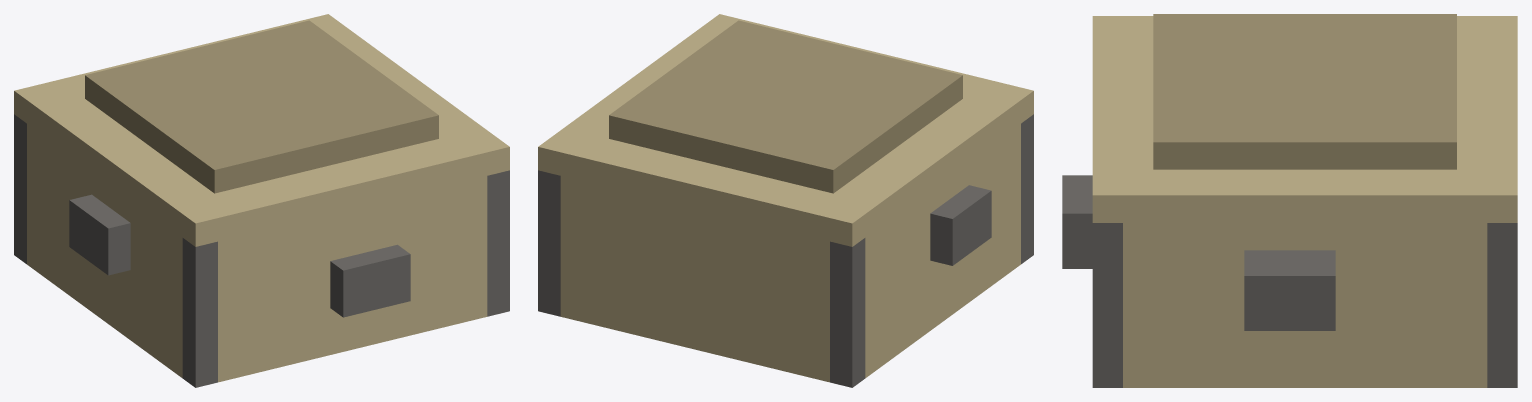
Rendered from cesto_ropa_banista_01.glb.
3 views of the same model, side by side, from view 1: azimuth 30°, elevation 25°; view 2: azimuth 150°, elevation 25°; view 3: azimuth 270°, elevation 25° (orthographic). The views are drawn at different scales.
Parts seen in each view (by area): view 1: cesto_ropa_banista; view 2: cesto_ropa_banista; view 3: cesto_ropa_banista.
Part boxes in pixels (box(x1,y1,x2,y2)): cesto_ropa_banista: box(14, 14, 509, 387); cesto_ropa_banista: box(538, 14, 1033, 387); cesto_ropa_banista: box(1062, 14, 1517, 387).
Size of the model in its own units: 1.21 by 0.5714 by 1.07.
